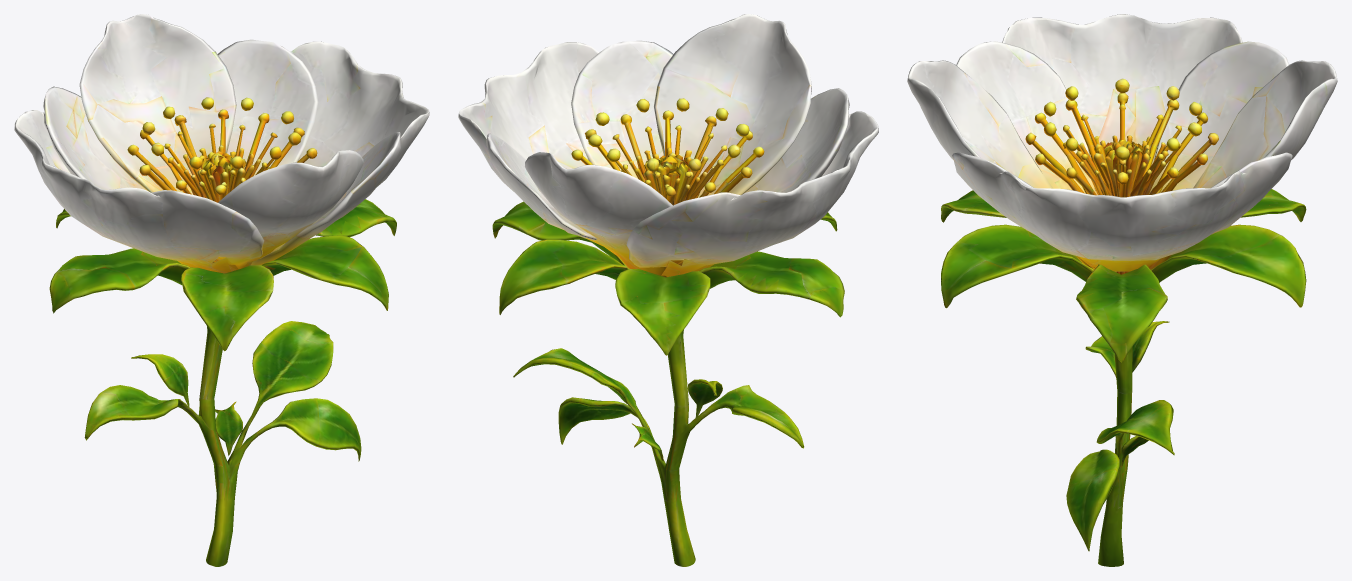
The model's file is peony_white.glb.
3 views of the same model, side by side, from view 1: azimuth 30°, elevation 25°; view 2: azimuth 150°, elevation 25°; view 3: azimuth 270°, elevation 25° (orthographic). The views are drawn at different scales.
Visible parts, largest first — view 1: geometry_0; view 2: geometry_0; view 3: geometry_0.
Boxes of the visible parts, box(x1,y1,x2,y2) form: geometry_0: box(14, 14, 429, 566); geometry_0: box(458, 14, 878, 566); geometry_0: box(907, 14, 1337, 566).
Size of the model in its own units: 0.7603 by 0.9502 by 0.7437.
Materials: 1 (1 with a texture image).
